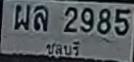2: (63, 6, 77, 31)
5: (114, 8, 130, 35)
8: (97, 7, 110, 33)
9: (79, 7, 93, 32)
A28: (14, 4, 30, 29)
A36: (33, 4, 48, 30)
